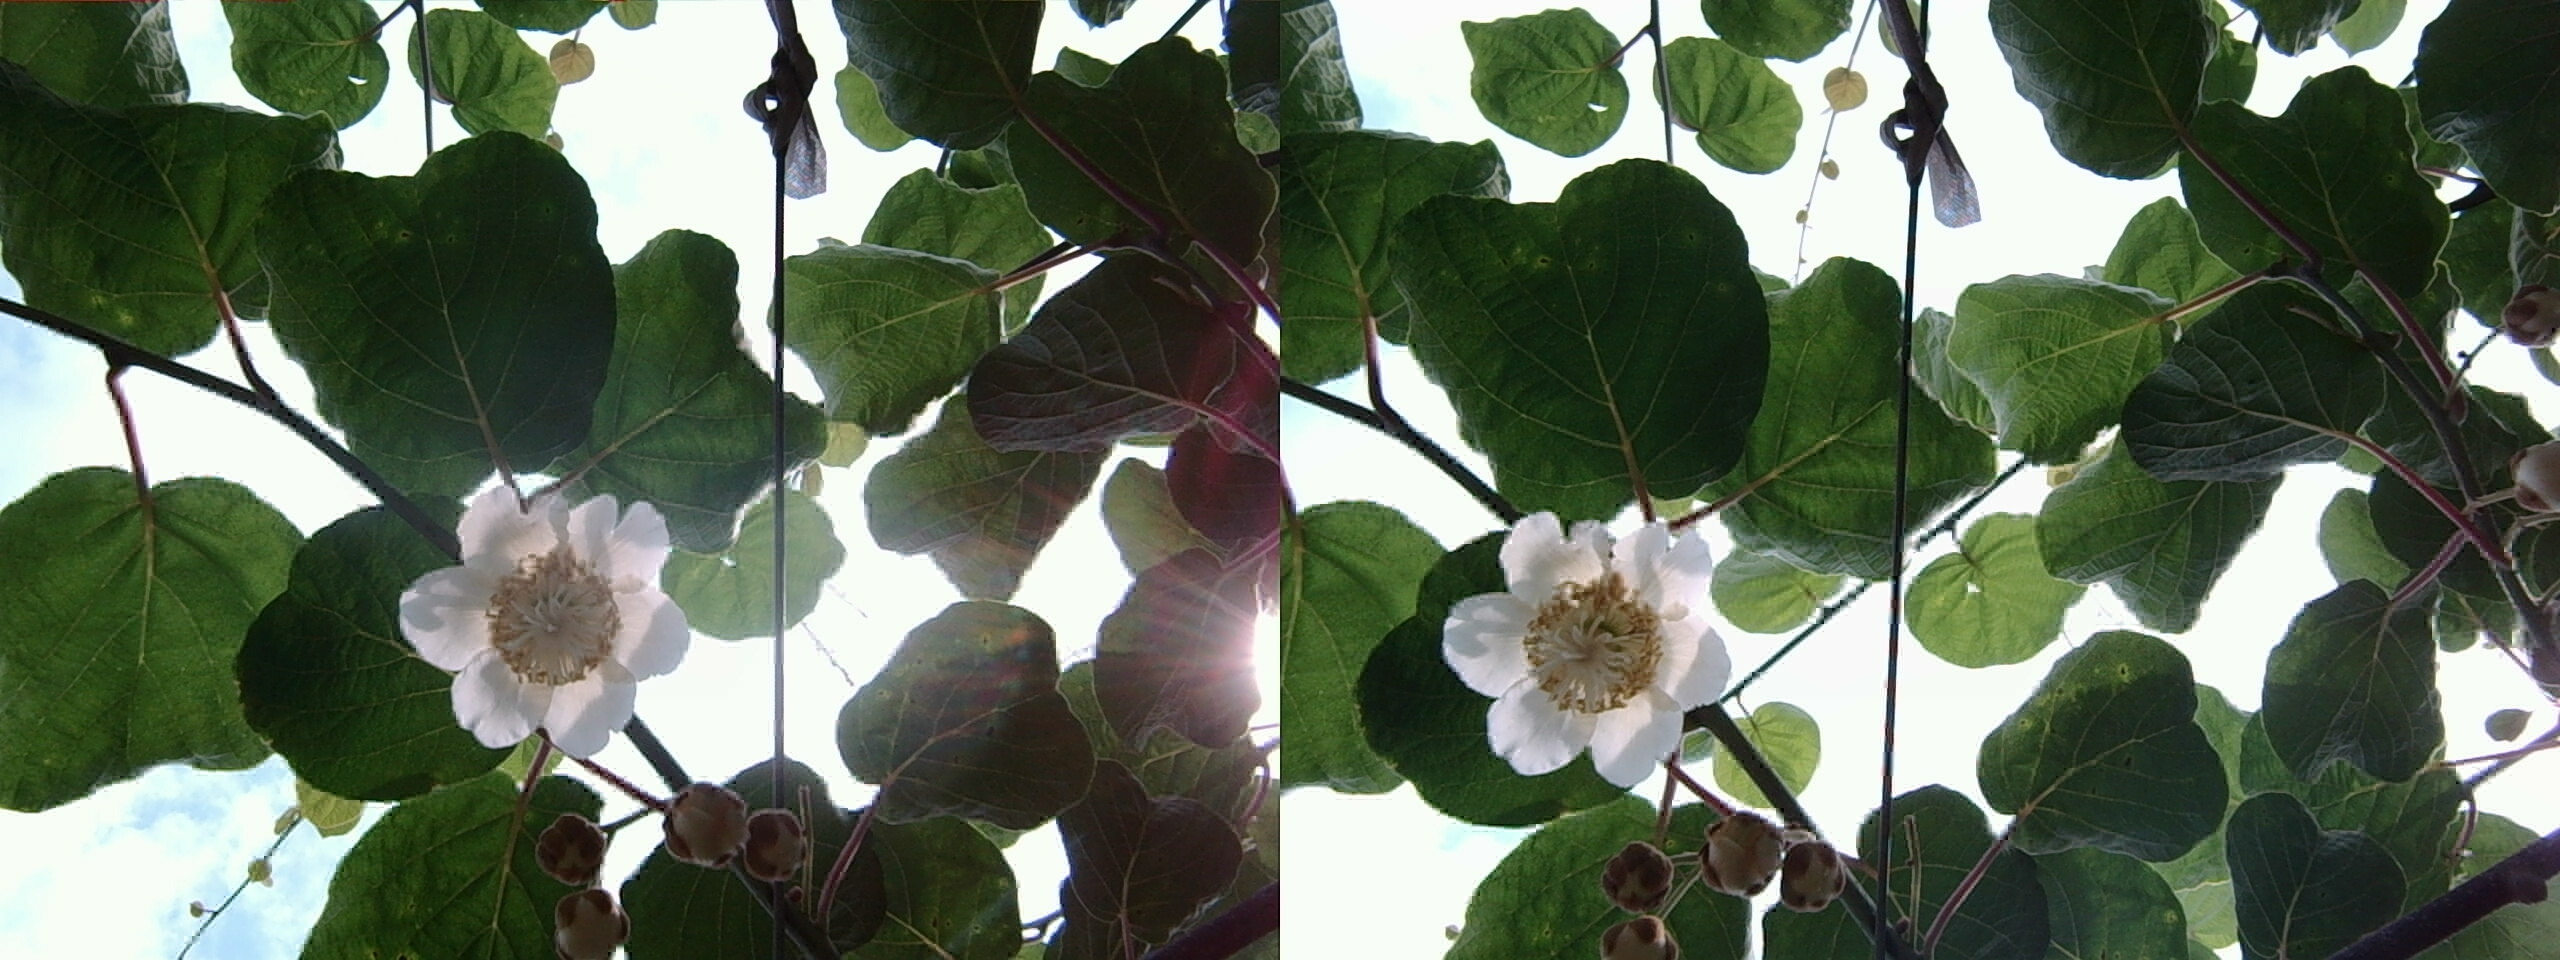flower: (402, 465, 682, 753), (1447, 500, 1721, 779)
